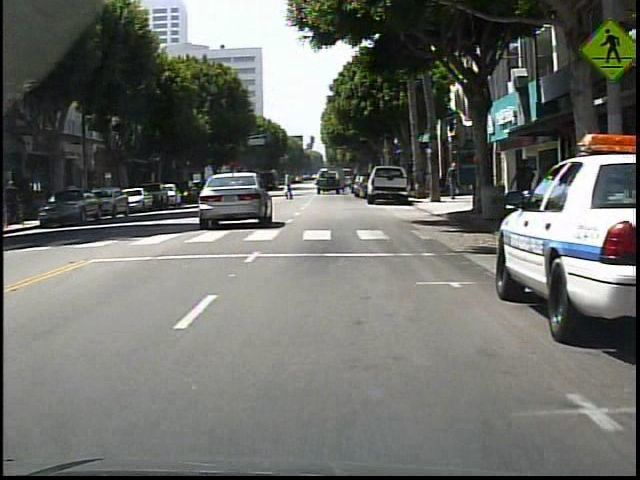person: (510, 157, 533, 218), (446, 160, 462, 200), (281, 172, 297, 200)
